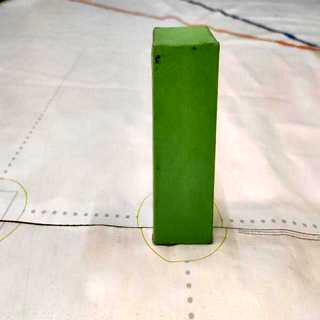greenbox: (150, 24, 222, 248)
